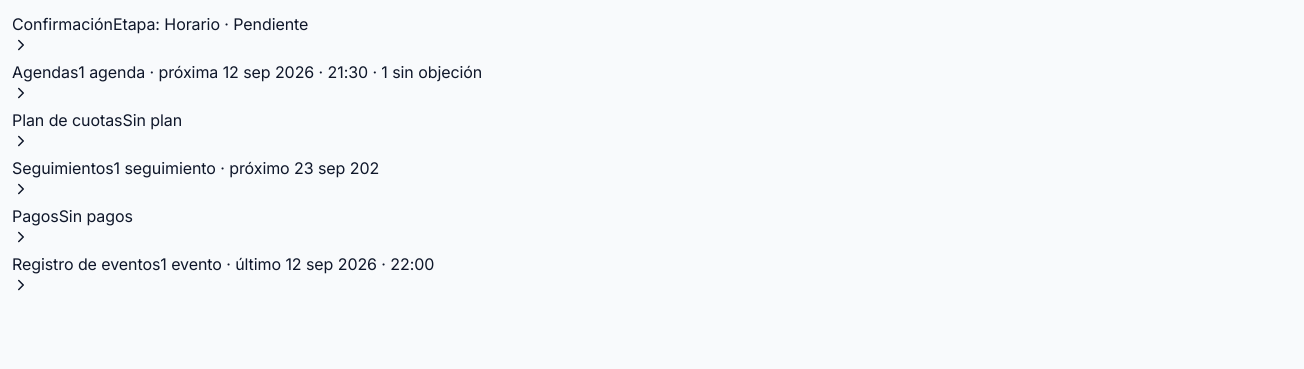
Test case: la objeción de una llamada que no cerró, en el historial › en el registro de eventos una objeción lleva su rótulo
Step 1. Click the button "Registro de eventos1 evento · último 12 sep 2026 · 22:00" → (223, 273), box [12, 252, 434, 294]
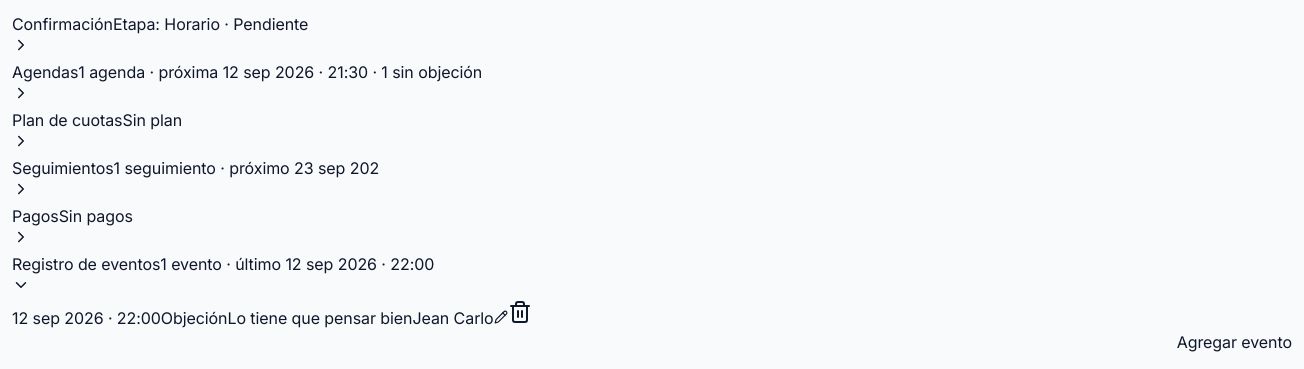
Expected: the text "Objeción" is shown, [161, 308, 228, 328]
